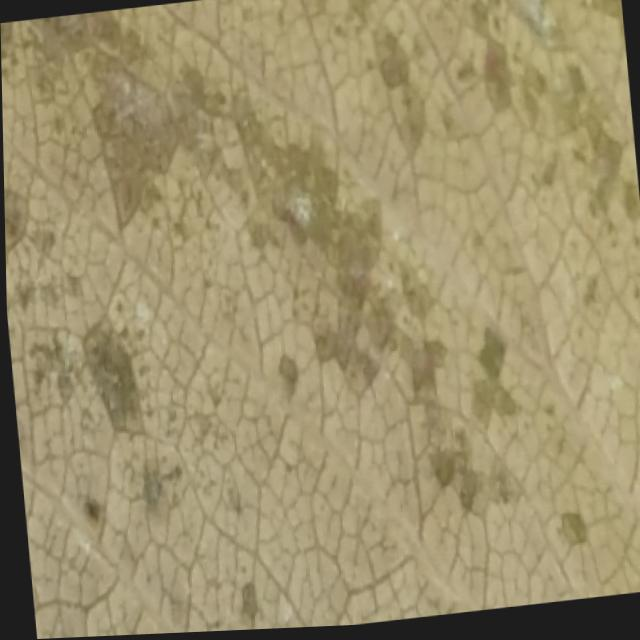Angular Leafspot: (0, 0, 640, 634)
